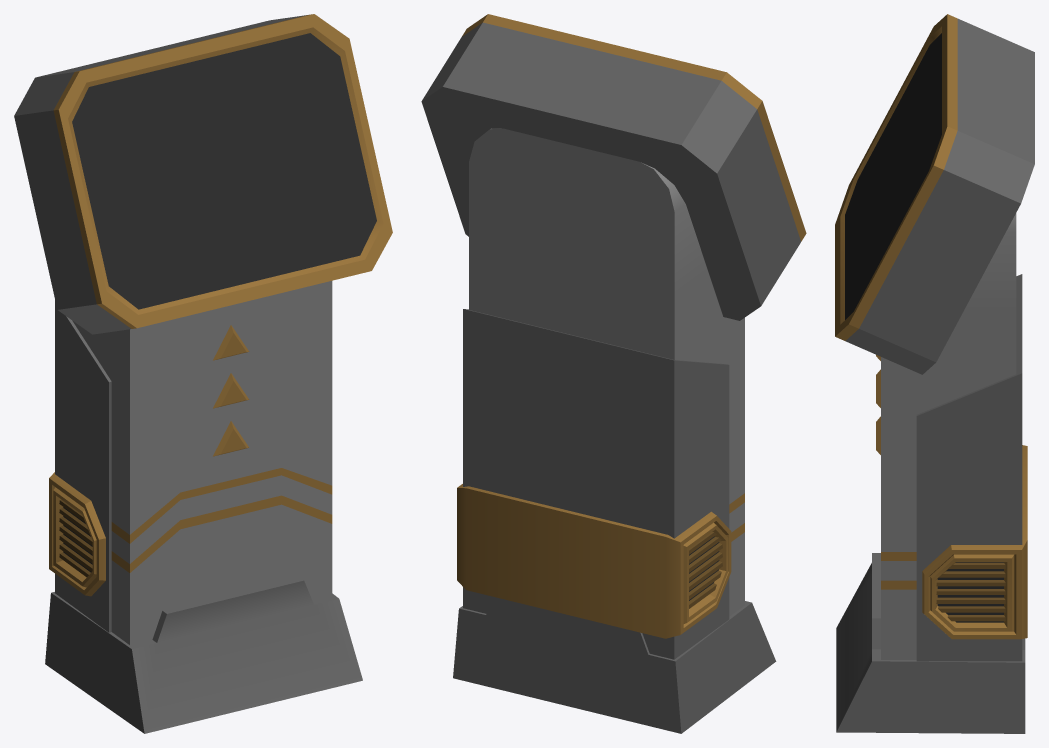
The model's file is computer_small.glb.
3 views of the same model, side by side, from view 1: azimuth 30°, elevation 25°; view 2: azimuth 150°, elevation 25°; view 3: azimuth 270°, elevation 25° (orthographic). The views are drawn at different scales.
Parts seen in each view (by area): view 1: computer_small; view 2: computer_small; view 3: computer_small.
Part boxes in pixels (left/top/right/bottom): computer_small: left=14, top=14, right=392, bottom=733; computer_small: left=421, top=14, right=806, bottom=733; computer_small: left=835, top=14, right=1034, bottom=733.
Bounding box in the file's own units: 0.5374 × 1.1 × 0.3265.
